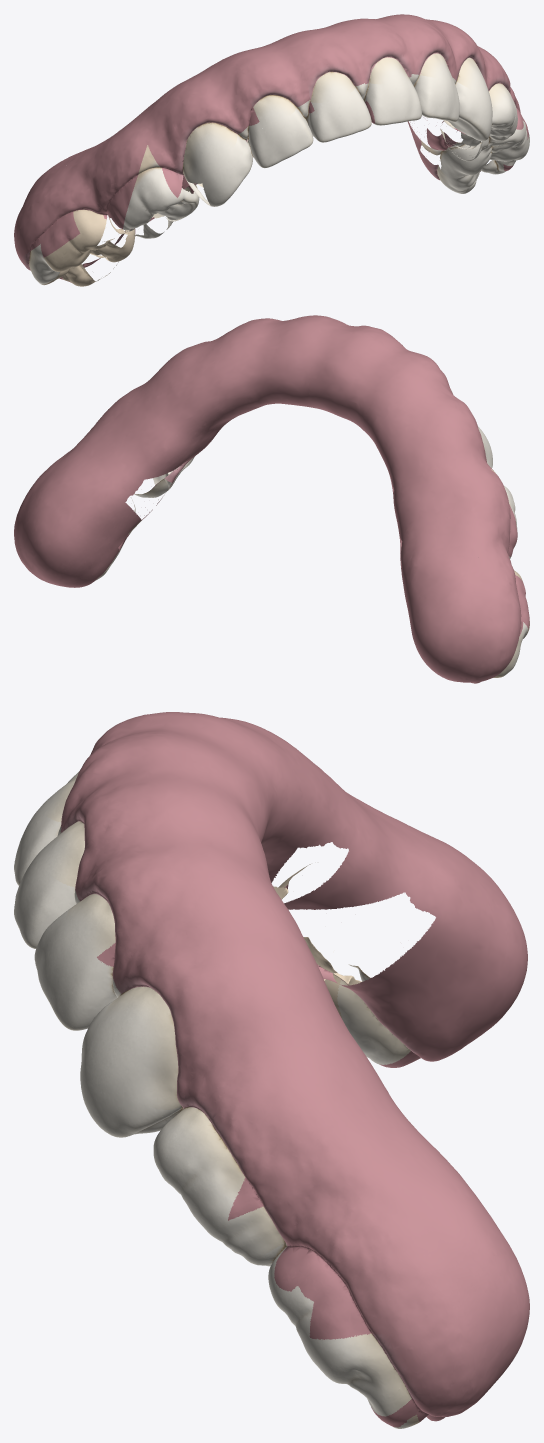
File: arcada_temporal_superior.glb
The picture shows the model from 3 angles, top to bottom: view 1: azimuth 30°, elevation 25°; view 2: azimuth 150°, elevation 25°; view 3: azimuth 270°, elevation 25°; orthographic projection. The views are drawn at different scales.
Parts seen in each view (by area): view 1: mesh_node; view 2: mesh_node; view 3: mesh_node.
Boxes of the visible parts, box(x1,y1,x2,y2) form: mesh_node: box(14, 14, 529, 286); mesh_node: box(14, 315, 529, 683); mesh_node: box(14, 712, 529, 1428).
Size of the model in its own units: 1.9 by 0.9393 by 0.9245.
